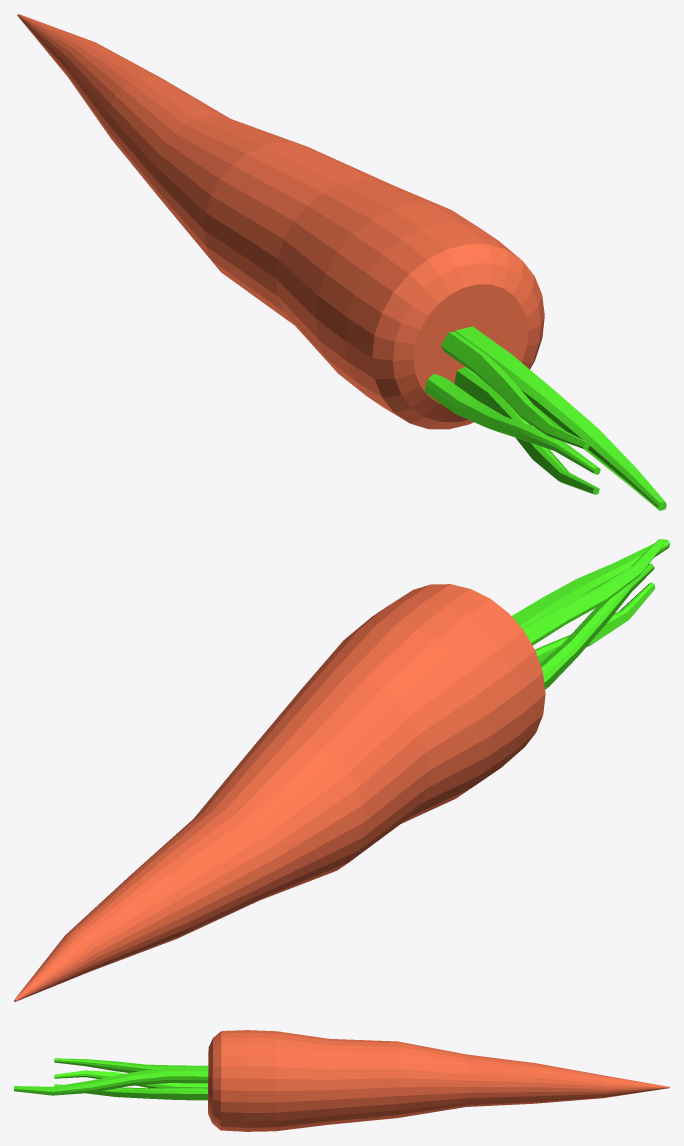
File: carrot.fbx
3 renders of one model, top to bottom at view 1: azimuth 30°, elevation 25°; view 2: azimuth 150°, elevation 25°; view 3: azimuth 270°, elevation 25°, orthographic. The views are drawn at different scales.
Visible parts, largest first — view 1: Carrot, Carrot.001; view 2: Carrot, Carrot.001; view 3: Carrot, Carrot.001.
Part boxes in pixels (bbox=[...]): Carrot: bbox=[17, 14, 544, 429]; Carrot.001: bbox=[425, 326, 666, 510]; Carrot: bbox=[14, 584, 545, 1001]; Carrot.001: bbox=[511, 539, 669, 689]; Carrot: bbox=[208, 1030, 669, 1131]; Carrot.001: bbox=[14, 1058, 208, 1100].
Size of the model in its own units: 17.5 by 2.73 by 2.71.
